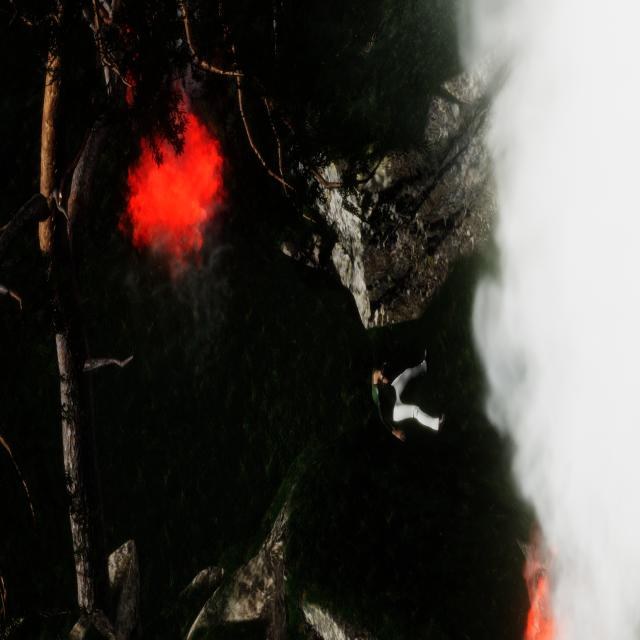Human: (368, 347, 452, 443)
